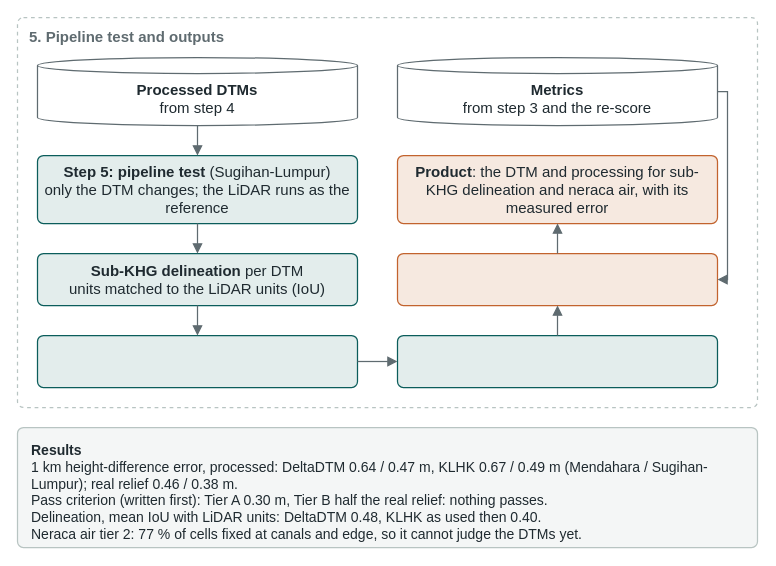
The diagram is 776 pixels wide and 566 high, and some of its shapes have lost their labels. Here are the shapes that lost their labels. From the top down, the box of each, then its label:
(396, 252, 718, 306): Benchmark report , generated from the comparison tables
(36, 334, 358, 388): Neraca air physical tiers 1 and 2 per DTM on the LiDAR units, same forcing
(396, 334, 718, 388): Compare delineation and neraca air results
